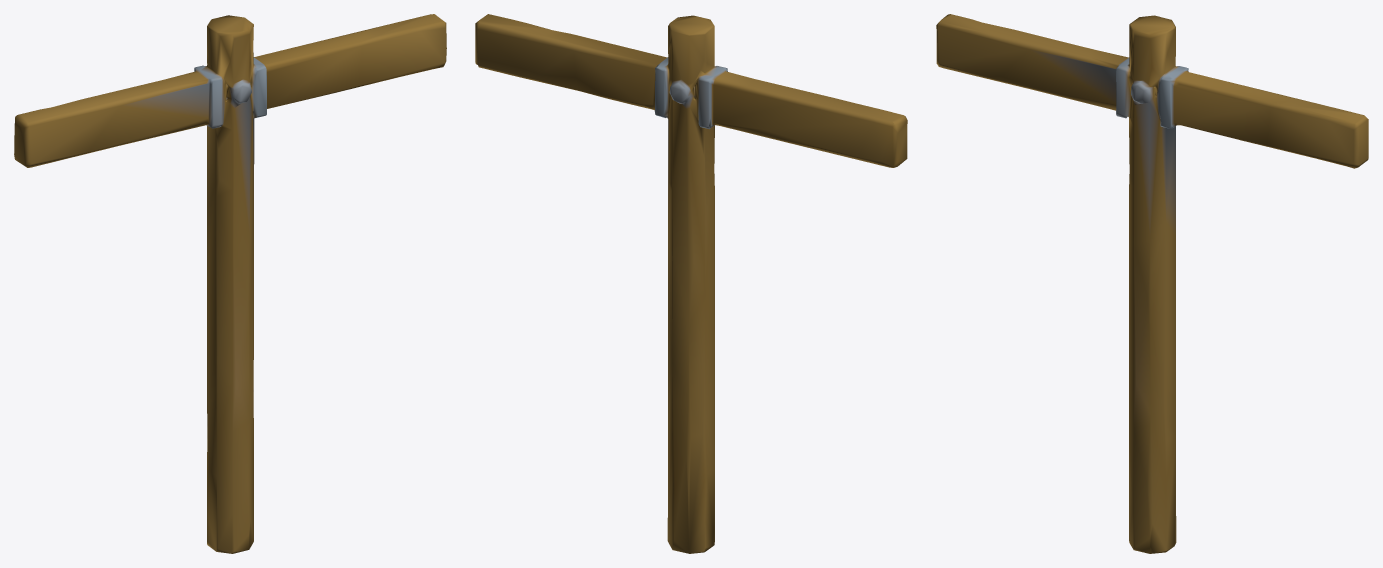
Rendered from gen3d-hitching-post-lod1.glb.
3 views of the same model, side by side, from view 1: azimuth 30°, elevation 25°; view 2: azimuth 150°, elevation 25°; view 3: azimuth 330°, elevation 25° (orthographic).
Parts seen in each view (by area): view 1: part_0; view 2: part_0; view 3: part_0.
Boxes of the visible parts, <box> form: part_0: <box>14,14,446,553</box>; part_0: <box>475,14,907,553</box>; part_0: <box>936,14,1368,553</box>.
Size of the model in its own units: 0.85 by 0.9998 by 0.0962.
